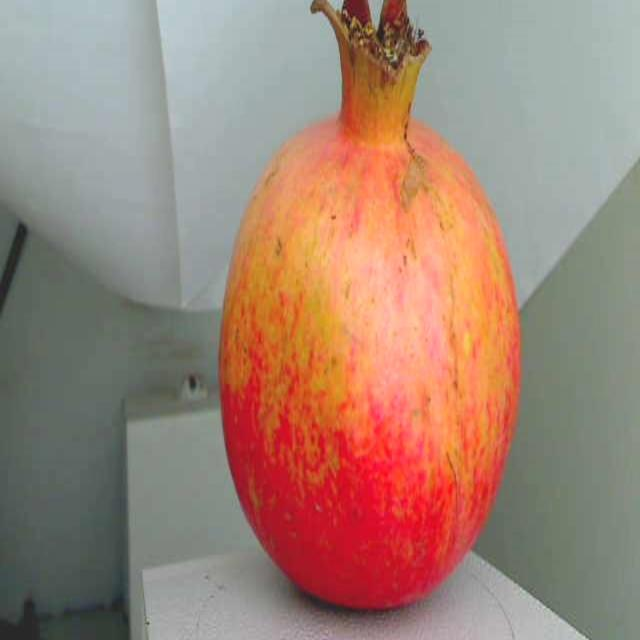pomegranate: (207, 0, 532, 640)
